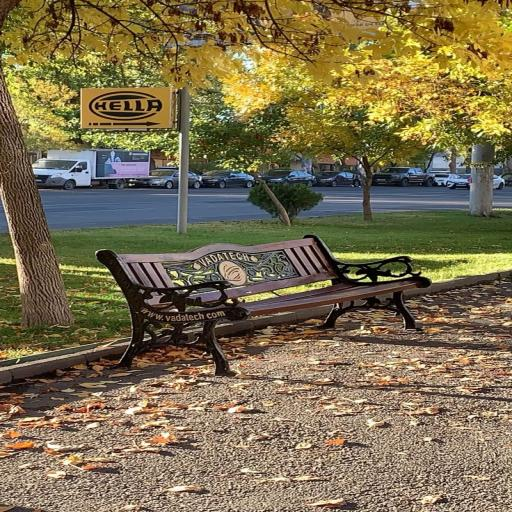bottle: (373, 167, 434, 186)
phone: (177, 86, 190, 234)
ramp: (41, 189, 177, 228)
shelf: (0, 282, 511, 511)
trash_bin: (96, 235, 430, 374)
